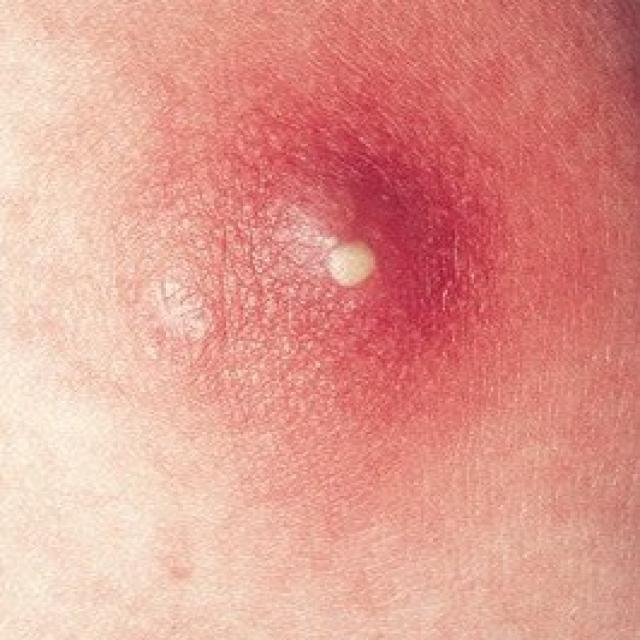pustule: (242, 198, 455, 355)
